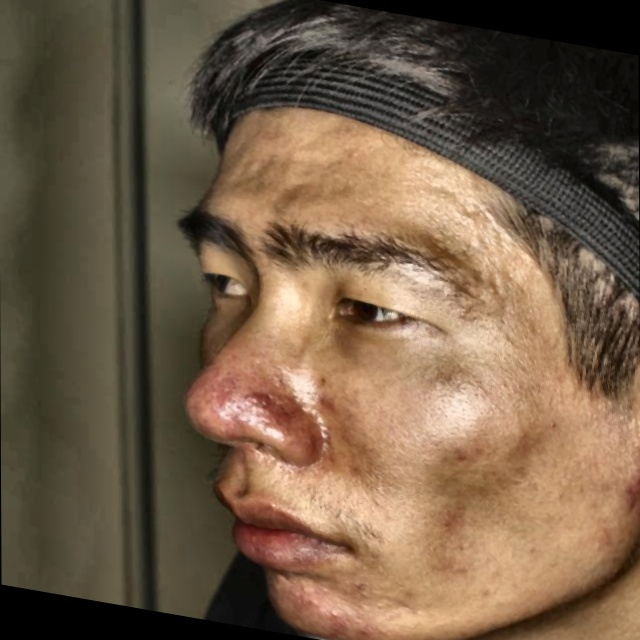comedone: (608, 486, 640, 514)
